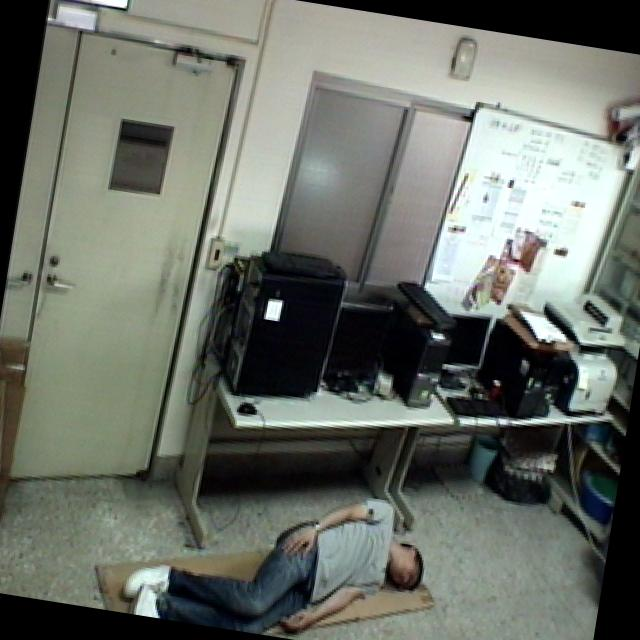lie: (116, 455, 445, 640)
